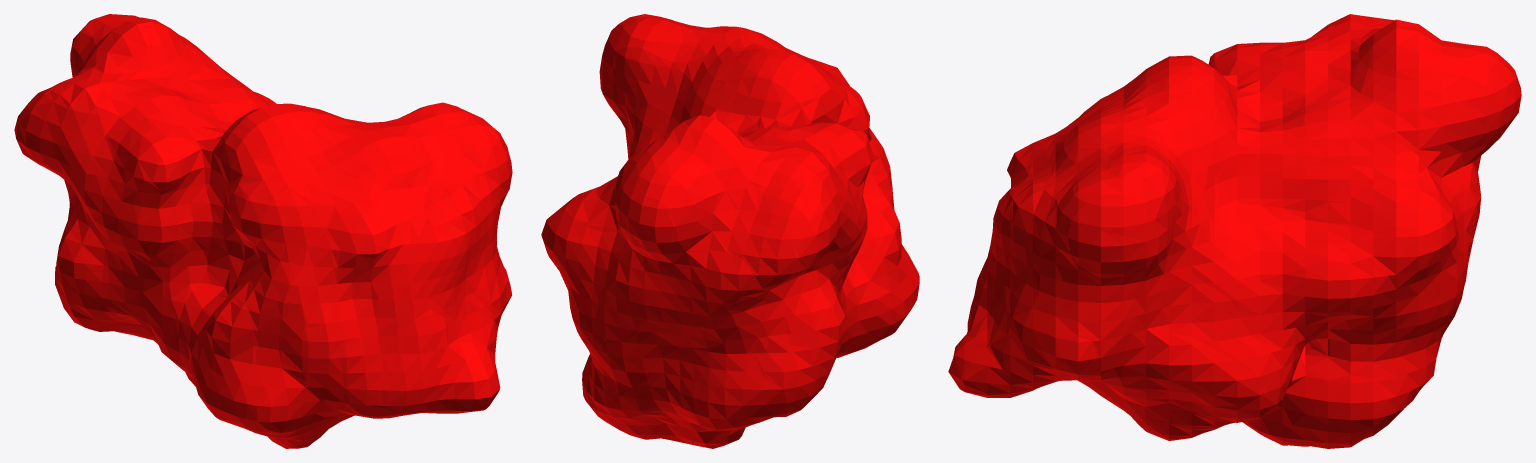
Rendered from Cell_division_control_protein__coarse.dae.
3 views of the same model, side by side, from view 1: azimuth 30°, elevation 25°; view 2: azimuth 150°, elevation 25°; view 3: azimuth 270°, elevation 25° (orthographic). The views are drawn at different scales.
Parts seen in each view (by area): view 1: Cell_division_control_protein_; view 2: Cell_division_control_protein_; view 3: Cell_division_control_protein_.
Part boxes in pixels (<box>): Cell_division_control_protein_: <box>14,14,512,448</box>; Cell_division_control_protein_: <box>541,14,919,448</box>; Cell_division_control_protein_: <box>948,14,1521,448</box>.
Bounding box in the file's own units: 55.48 × 55.76 × 73.46.
